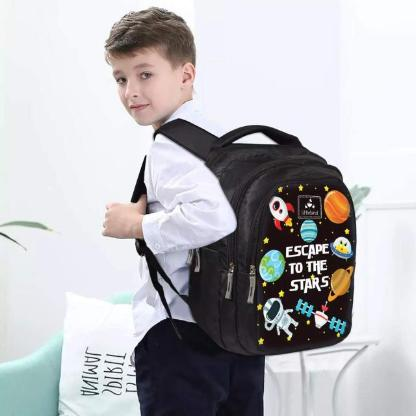bag: (185, 113, 358, 355)
person: (92, 3, 270, 416)
